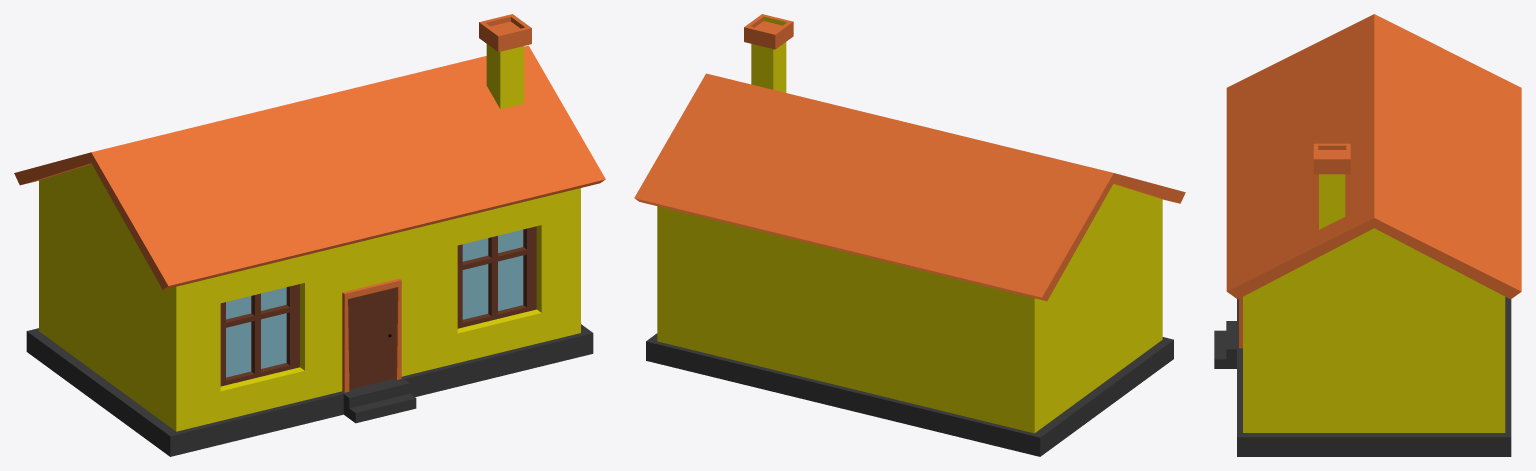
File: Casa.fbx
3 renders of one model, left to right at view 1: azimuth 30°, elevation 25°; view 2: azimuth 150°, elevation 25°; view 3: azimuth 270°, elevation 25°, orthographic. The views are drawn at different scales.
Visible parts, largest first — view 1: Cube, Cube.001, Cube.004, Cube.005, Cube.003, Cube.002; view 2: Cube, Cube.001, Cube.002; view 3: Cube.001, Cube, Cube.002.
Part boxes in pixels (box(x1,y1,x2,y2)): Cube: box(26, 164, 593, 456); Cube.001: box(14, 45, 605, 289); Cube.004: box(220, 284, 299, 386); Cube.005: box(457, 226, 536, 328); Cube.003: box(342, 278, 401, 392); Cube.002: box(479, 14, 531, 109); Cube: box(646, 184, 1173, 456); Cube.001: box(634, 73, 1185, 301); Cube.002: box(744, 14, 793, 92); Cube.001: box(1226, 14, 1521, 299); Cube: box(1214, 228, 1511, 456); Cube.002: box(1313, 143, 1350, 229).
Size of the model in its own units: 919 by 605 by 586.
